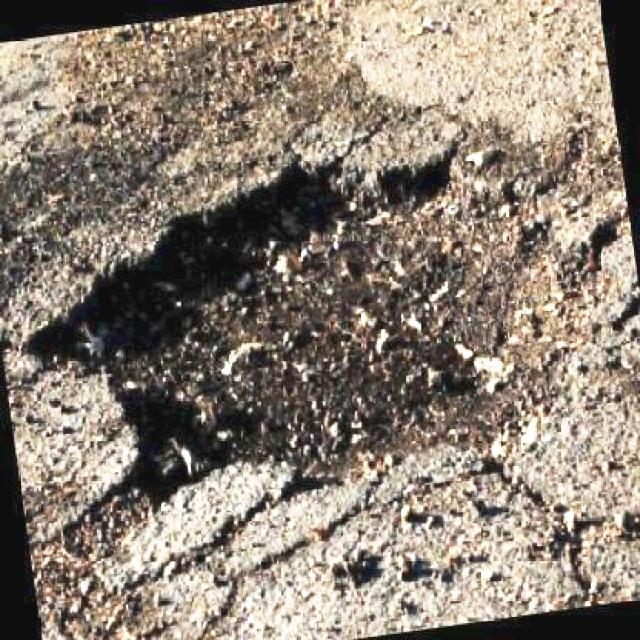pothole: (11, 112, 640, 517)
